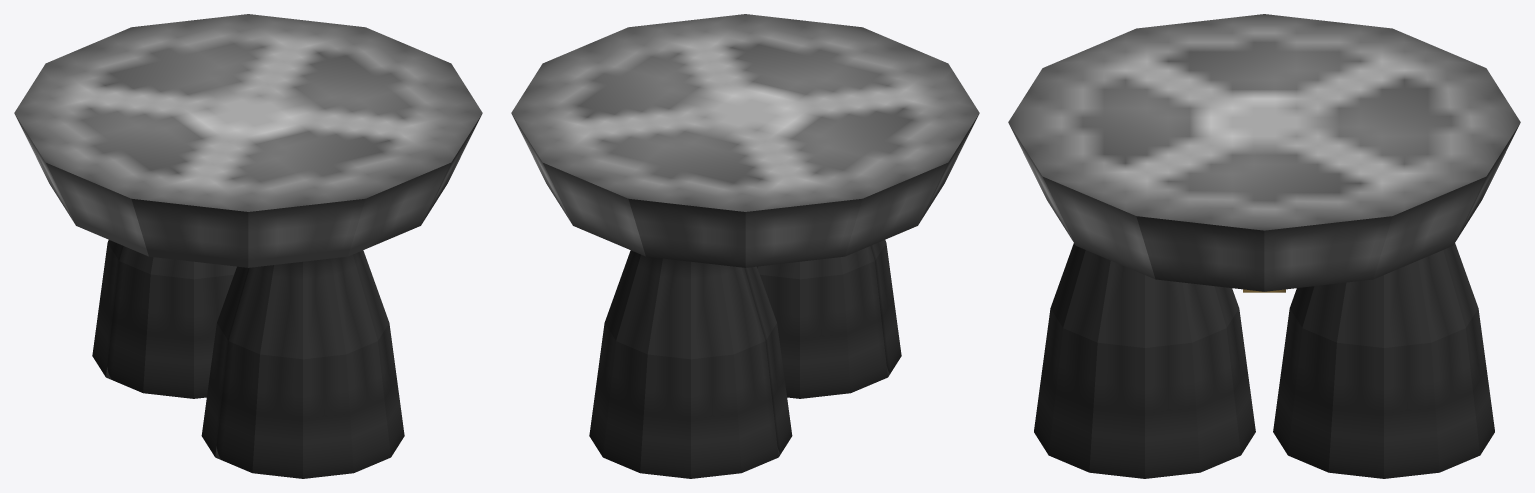
File: mp_t_15_kerosene_dual.obj
3 renders of one model, left to right at view 1: azimuth 30°, elevation 25°; view 2: azimuth 150°, elevation 25°; view 3: azimuth 270°, elevation 25°, orthographic. The views are drawn at different scales.
Visible parts, largest first — view 1: Cylinder; view 2: Cylinder; view 3: Cylinder.
Boxes of the visible parts, x1,y1,x2,y2 form: Cylinder: [14, 14, 482, 478]; Cylinder: [511, 14, 979, 478]; Cylinder: [1008, 14, 1520, 478].
Bounding box in the file's own units: 1.5 × 1 × 1.5.
